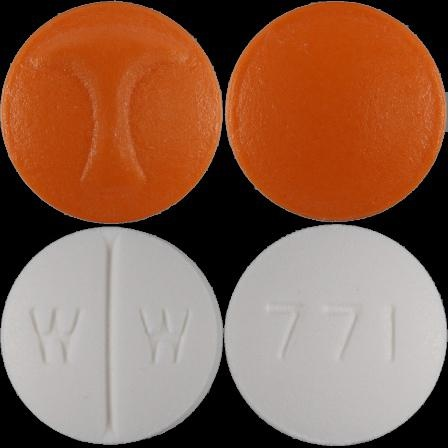0904-2013: (0, 0, 224, 224)
